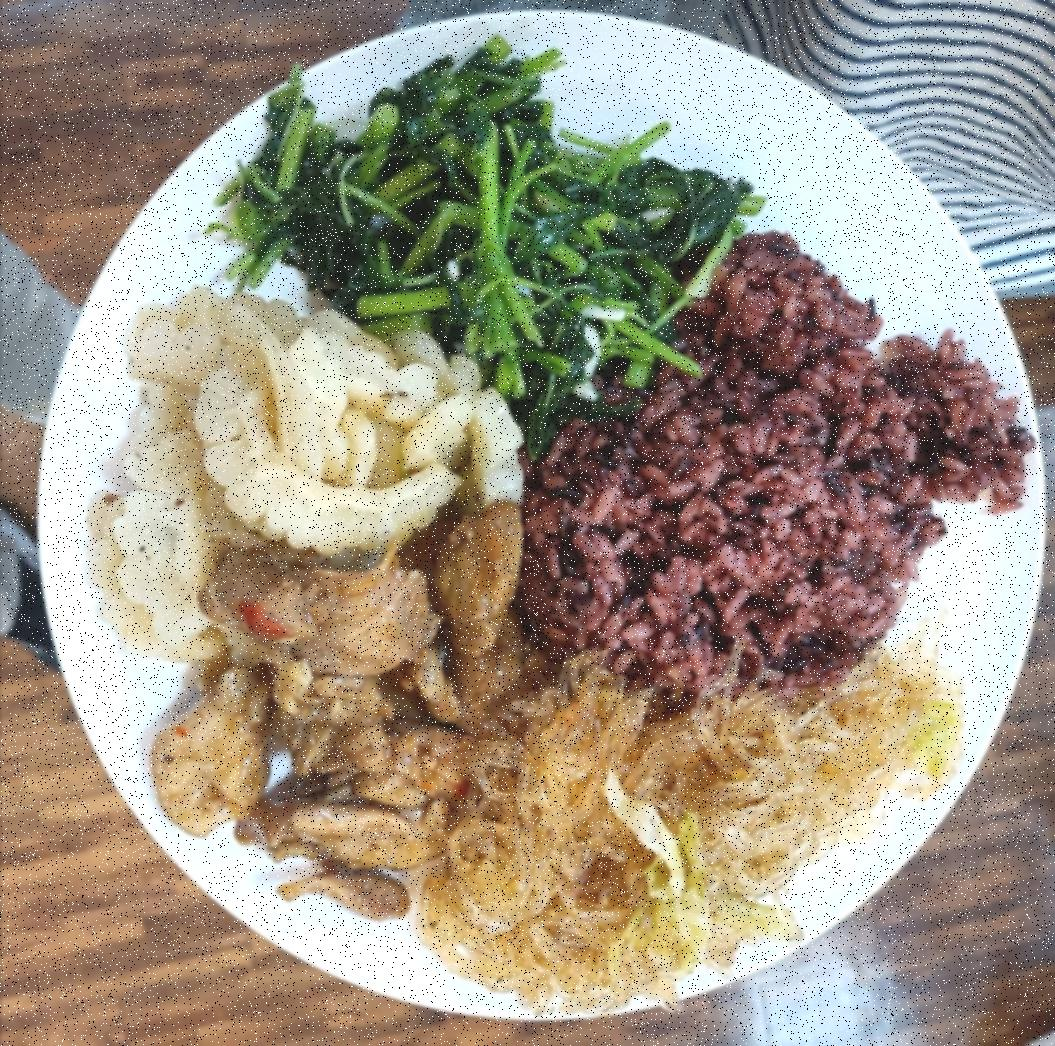plate: (18, 20, 1047, 1018)
purple rice: (532, 286, 977, 690)
side dish: (440, 680, 927, 986), (274, 94, 718, 325), (87, 306, 504, 550)
three cup chicken: (182, 544, 512, 908)
